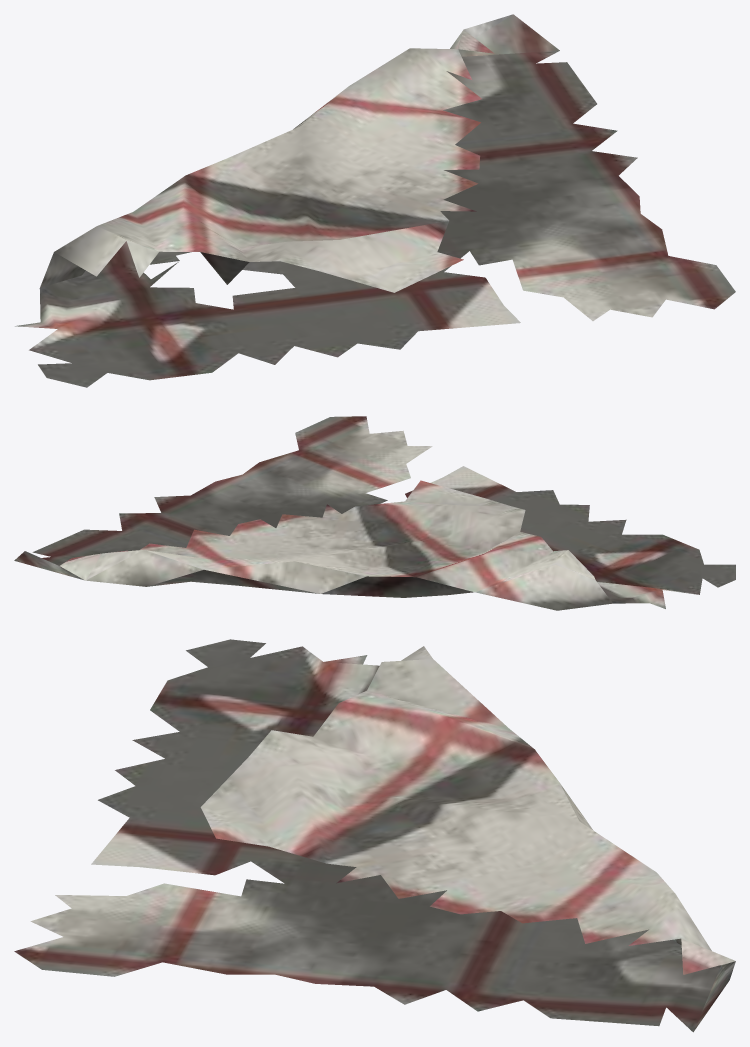
File: rag_kitchen_cloth_2_lod1_web.glb
The picture shows the model from 3 angles, top to bottom: view 1: azimuth 30°, elevation 25°; view 2: azimuth 150°, elevation 25°; view 3: azimuth 270°, elevation 25°; orthographic projection. The views are drawn at different scales.
Parts seen in each view (by area): view 1: rag_kitchen_cloth_2_Cloth; view 2: rag_kitchen_cloth_2_Cloth; view 3: rag_kitchen_cloth_2_Cloth.
Part boxes in pixels (x1,y1,x2,y2): rag_kitchen_cloth_2_Cloth: (15, 14, 735, 387); rag_kitchen_cloth_2_Cloth: (14, 416, 735, 610); rag_kitchen_cloth_2_Cloth: (14, 639, 735, 1032).
Bounding box in the file's own units: 0.3783 × 0.0269 × 0.2934.
1 material, 1 textured.
